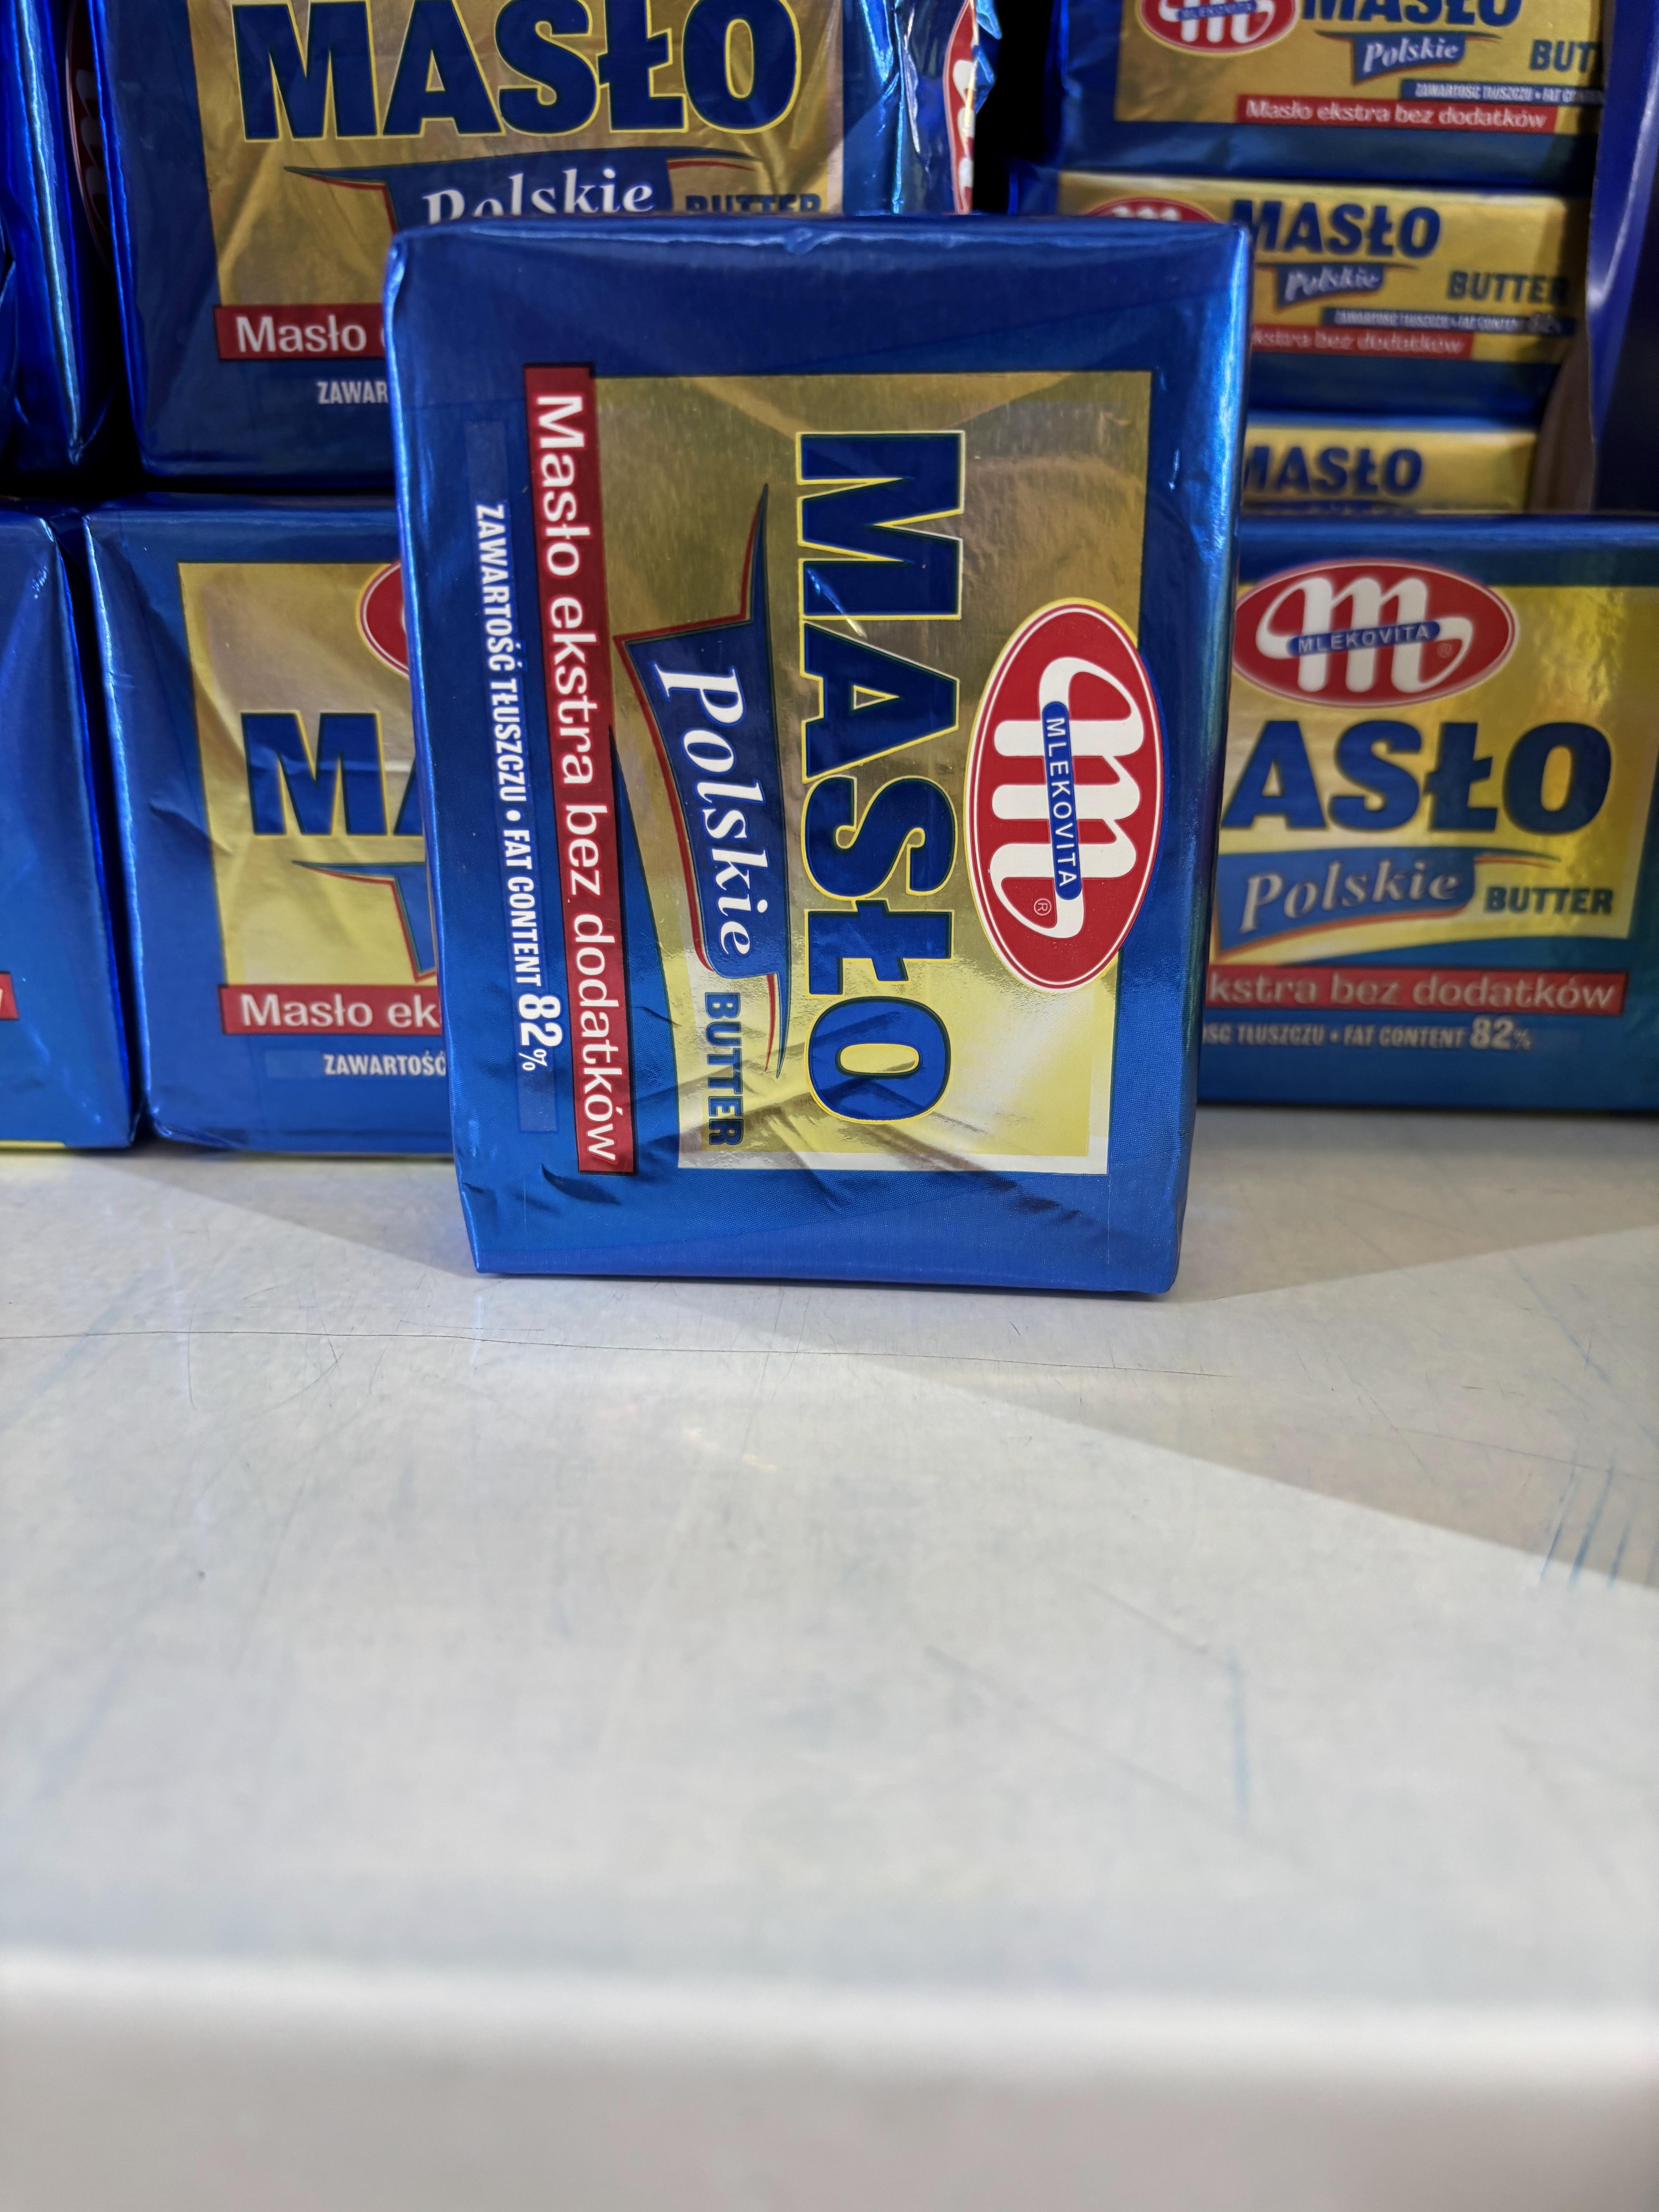Butter: (387, 232, 1258, 1291)
